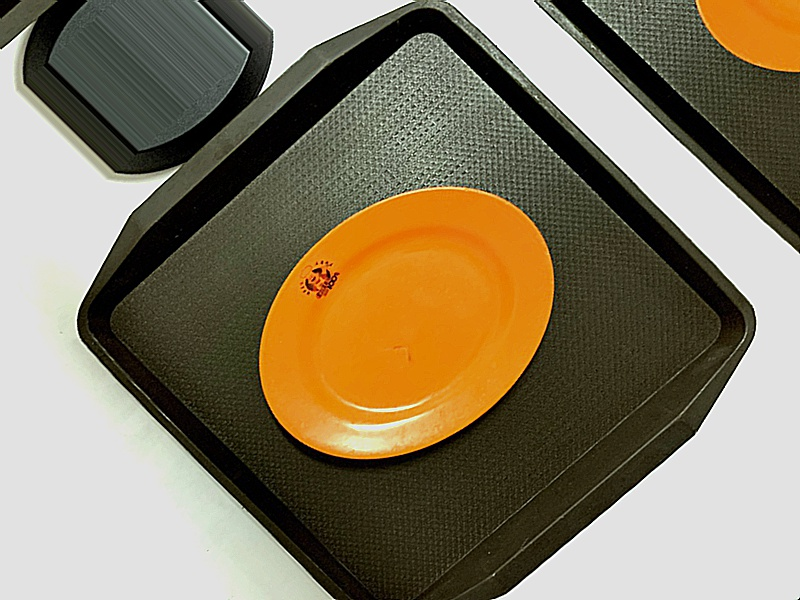dish10: (193, 125, 618, 520)
